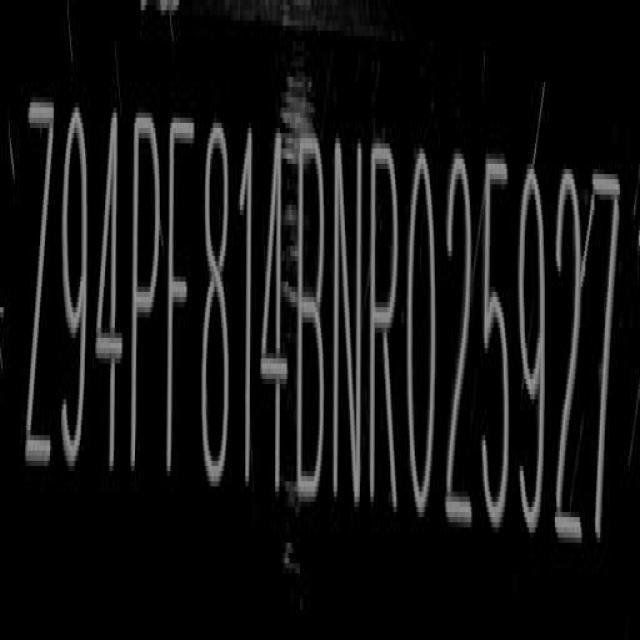0: (406, 145, 442, 531)
1: (238, 119, 255, 502)
2: (554, 166, 590, 558), (446, 147, 478, 540)
4: (96, 102, 128, 488), (259, 126, 290, 505)
5: (482, 152, 512, 540)
7: (592, 165, 626, 553)
8: (200, 118, 233, 501)
9: (516, 164, 548, 547), (60, 99, 91, 482)
B: (295, 123, 330, 510)
F: (167, 105, 194, 494)
N: (332, 134, 367, 518)
P: (131, 103, 164, 494)
R: (368, 141, 402, 524)
Z: (23, 92, 56, 490)
